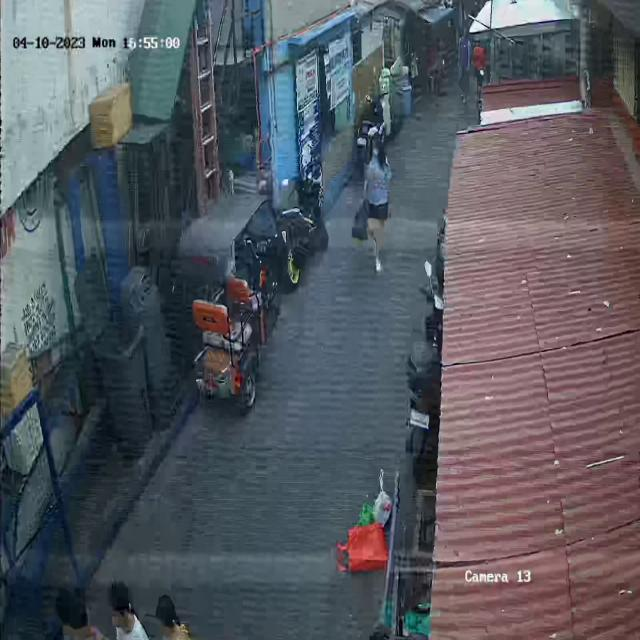garbage_dumping: (338, 466, 391, 576), (352, 200, 370, 250)
